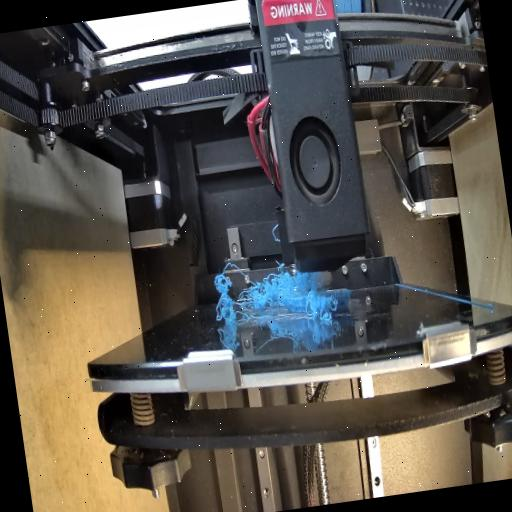spaghetti: (213, 263, 303, 323), (298, 272, 338, 330)
